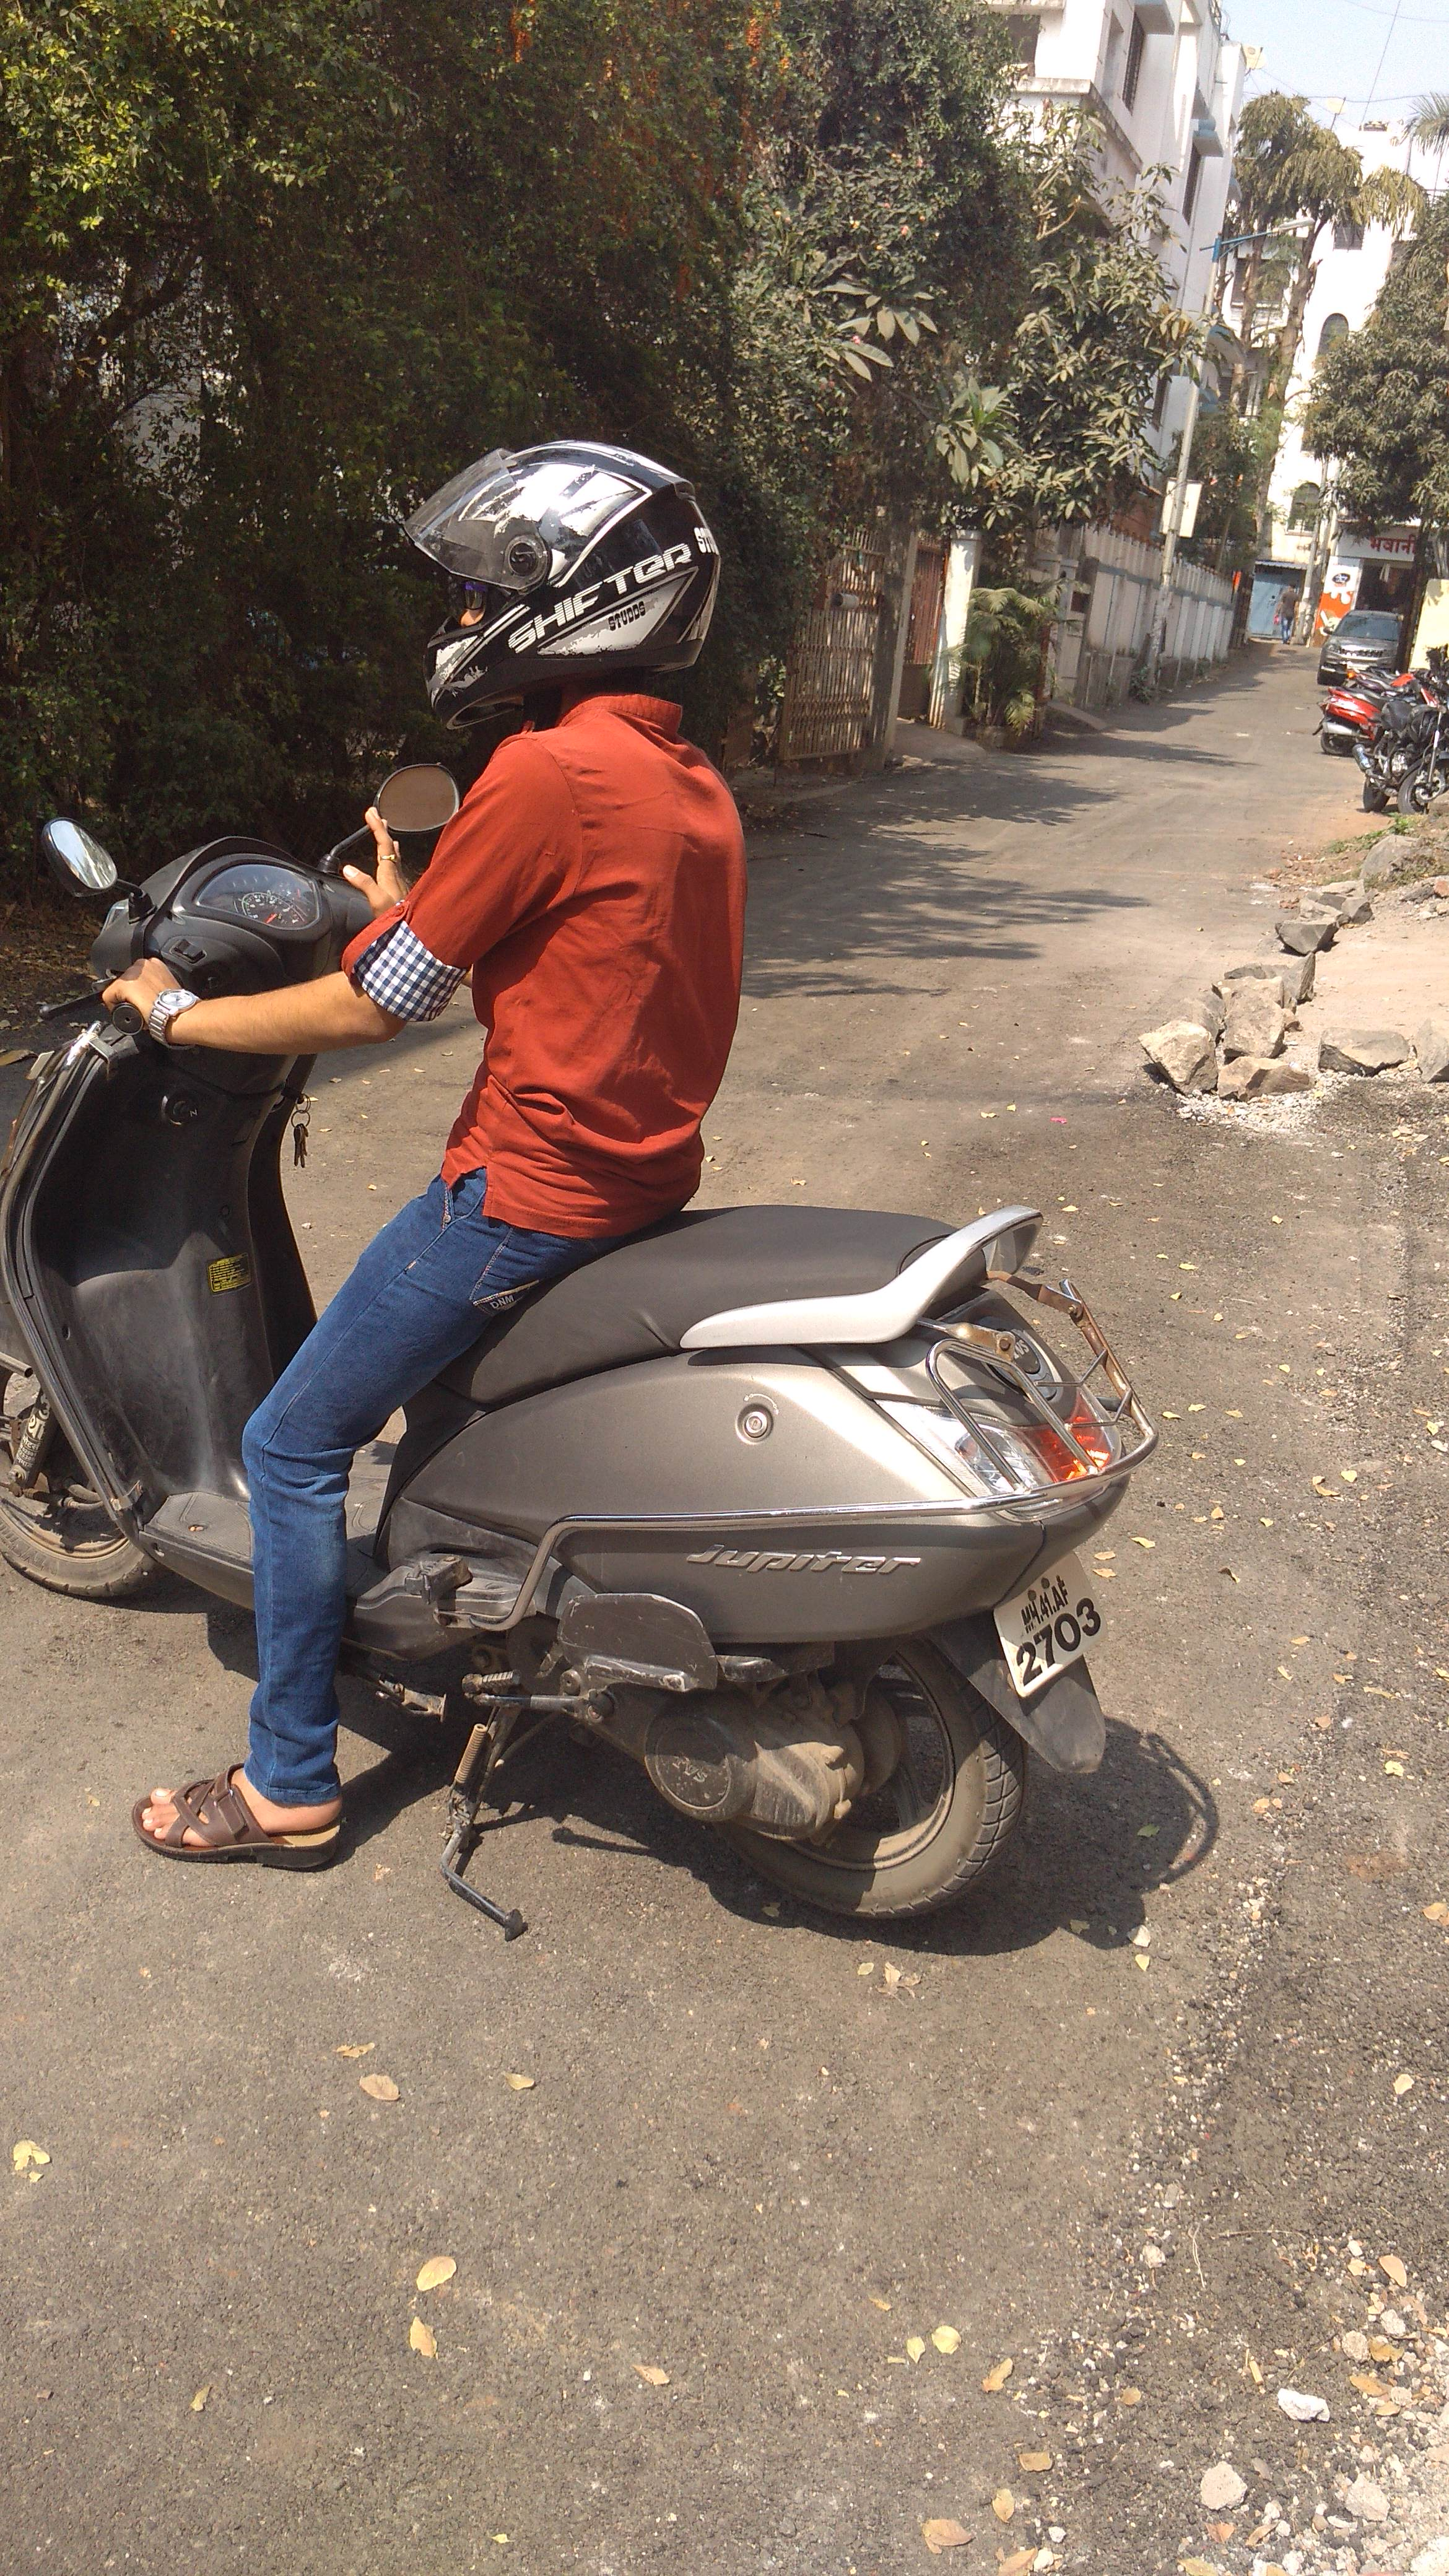helmet: (11, 433, 1150, 2010)
